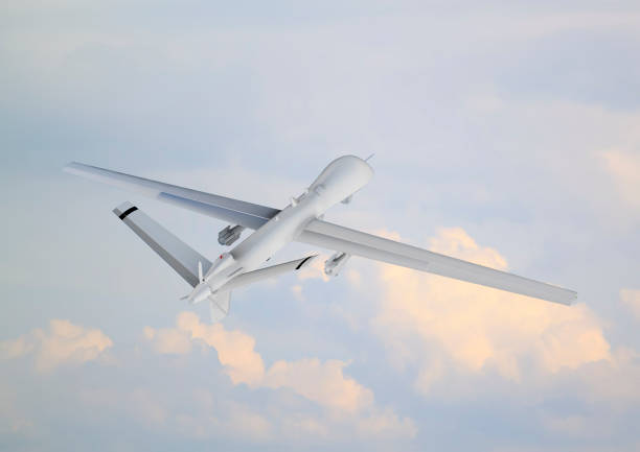military drone: (60, 154, 577, 315)
